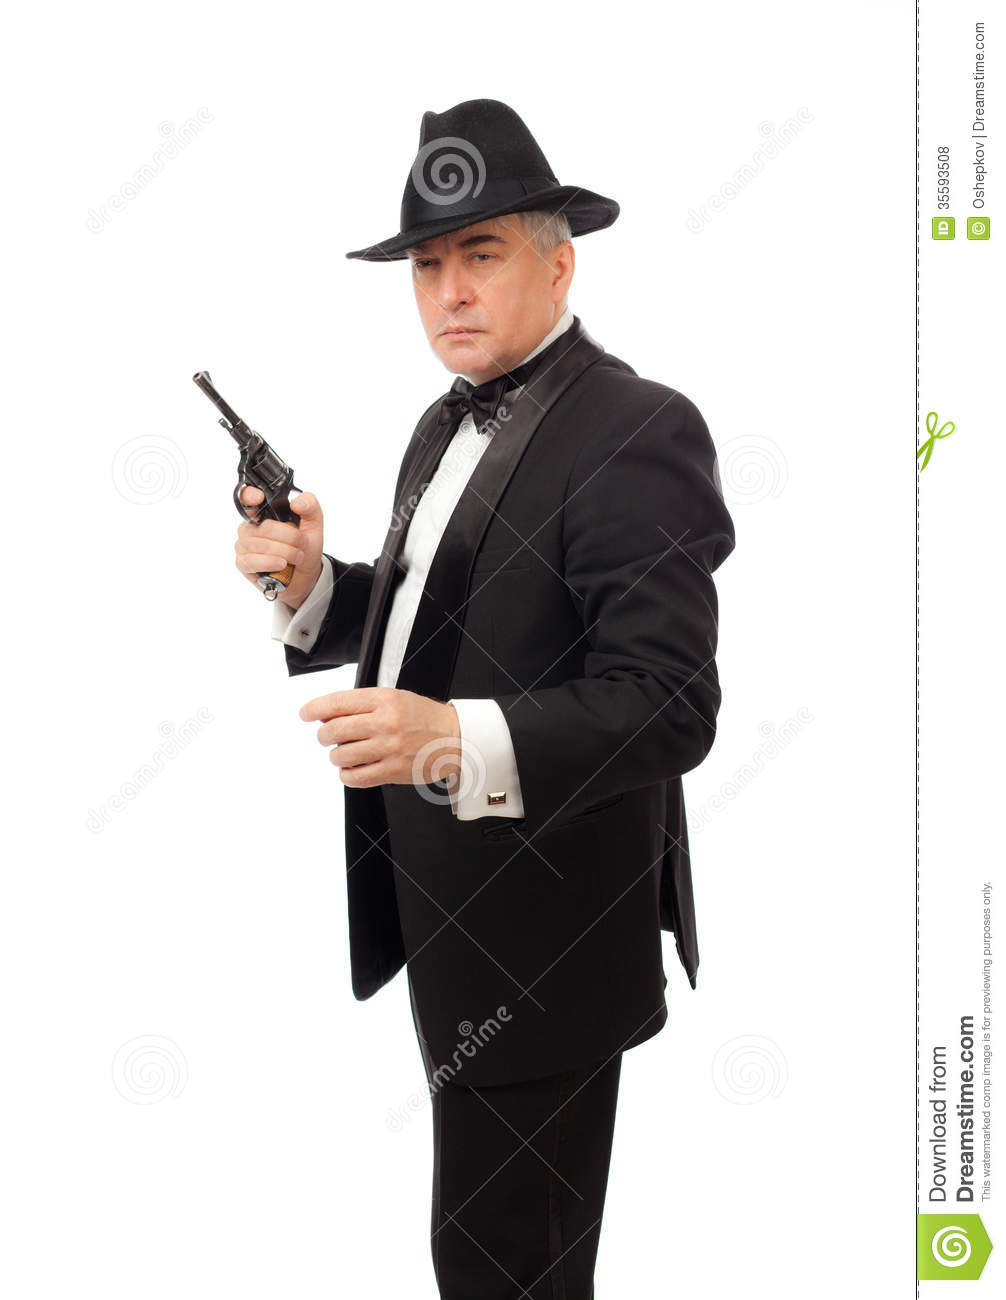Revolver: (168, 345, 326, 542)
